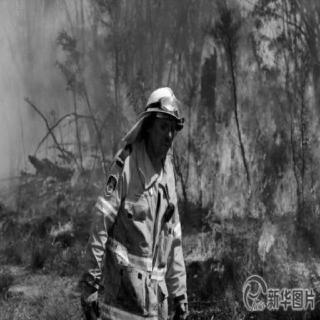Fire: (174, 60, 318, 294), (36, 10, 138, 258)
other: (100, 80, 188, 308)
